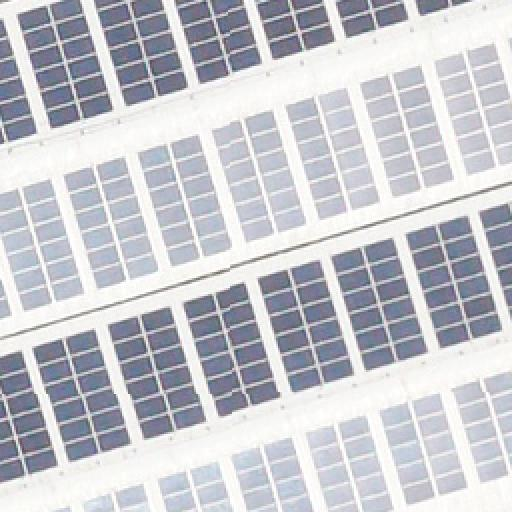solar-panel: (107, 303, 213, 441), (30, 324, 134, 464), (181, 278, 283, 418), (257, 255, 359, 393), (405, 214, 507, 350), (330, 236, 430, 372), (283, 86, 381, 222), (359, 64, 457, 200), (212, 107, 308, 245), (16, 0, 116, 132), (63, 157, 161, 291), (135, 133, 233, 267), (1, 177, 87, 311), (92, 1, 192, 111), (433, 42, 511, 178), (380, 390, 468, 506), (307, 416, 397, 512), (0, 347, 60, 485), (173, 0, 267, 88), (449, 368, 511, 484), (229, 436, 315, 512), (252, 0, 340, 64), (1, 18, 39, 146), (476, 201, 512, 327), (158, 460, 234, 512), (334, 0, 410, 40), (82, 480, 154, 512), (414, 0, 478, 20), (1, 268, 15, 320), (47, 504, 73, 512), (508, 37, 512, 51)
